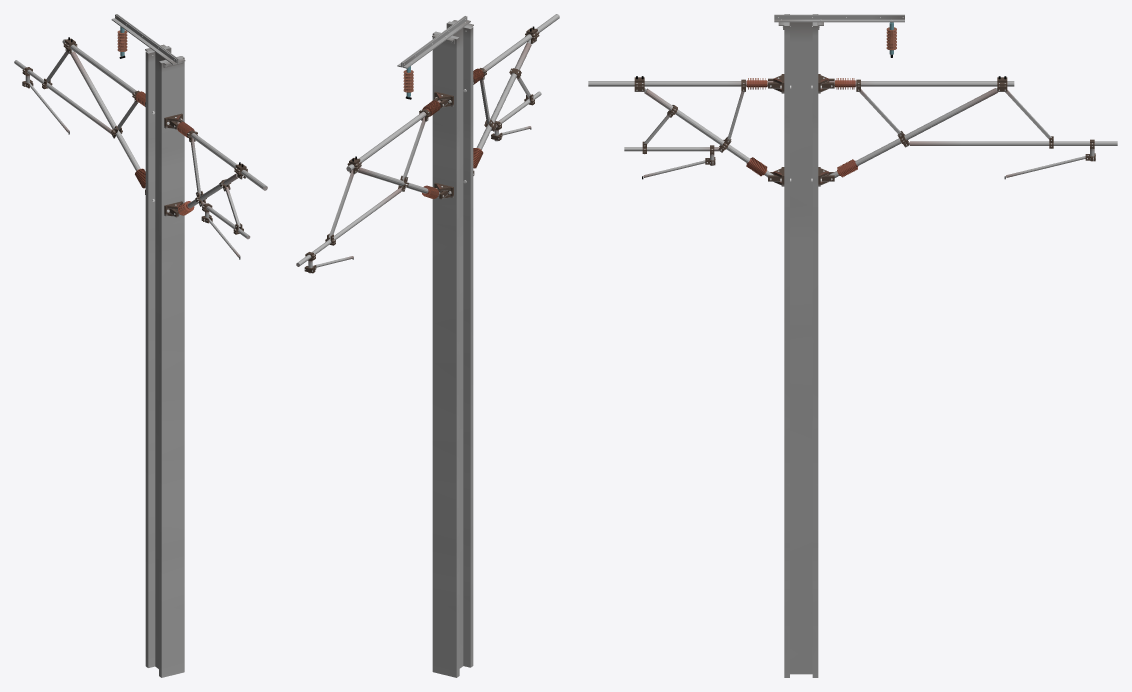
Rendered from catenary_both_mirror.obj.
The picture shows the model from 3 angles, left to right: view 1: azimuth 30°, elevation 25°; view 2: azimuth 150°, elevation 25°; view 3: azimuth 270°, elevation 25°; orthographic projection. The views are drawn at different scales.
Visible parts, largest first — view 1: cuboid, cylinder; view 2: cuboid, cylinder; view 3: cuboid, cylinder.
Part boxes in pixels (x1,y1,x2,y2): cuboid: [22, 14, 247, 677]; cylinder: [14, 16, 267, 259]; cuboid: [304, 16, 539, 677]; cylinder: [296, 14, 559, 273]; cuboid: [634, 14, 1095, 677]; cylinder: [588, 17, 1117, 181].
Size of the model in its own units: 0.3125 by 8 by 5.84.
1 material, 1 textured.
